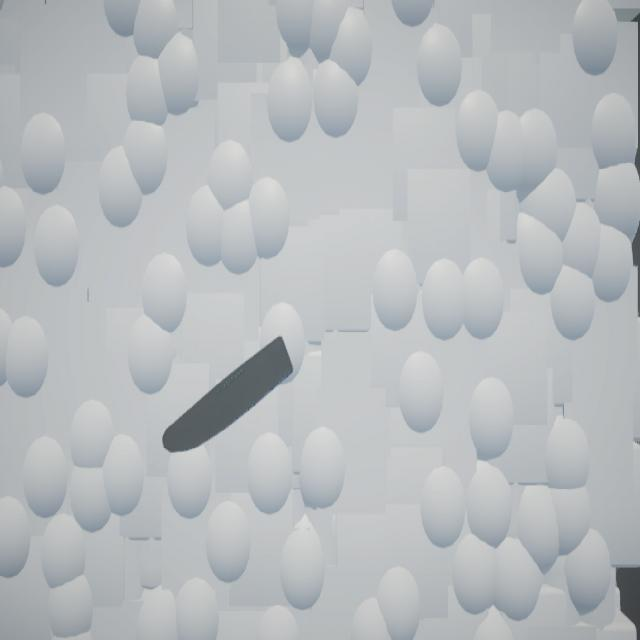top_knife: (163, 337, 294, 454)
